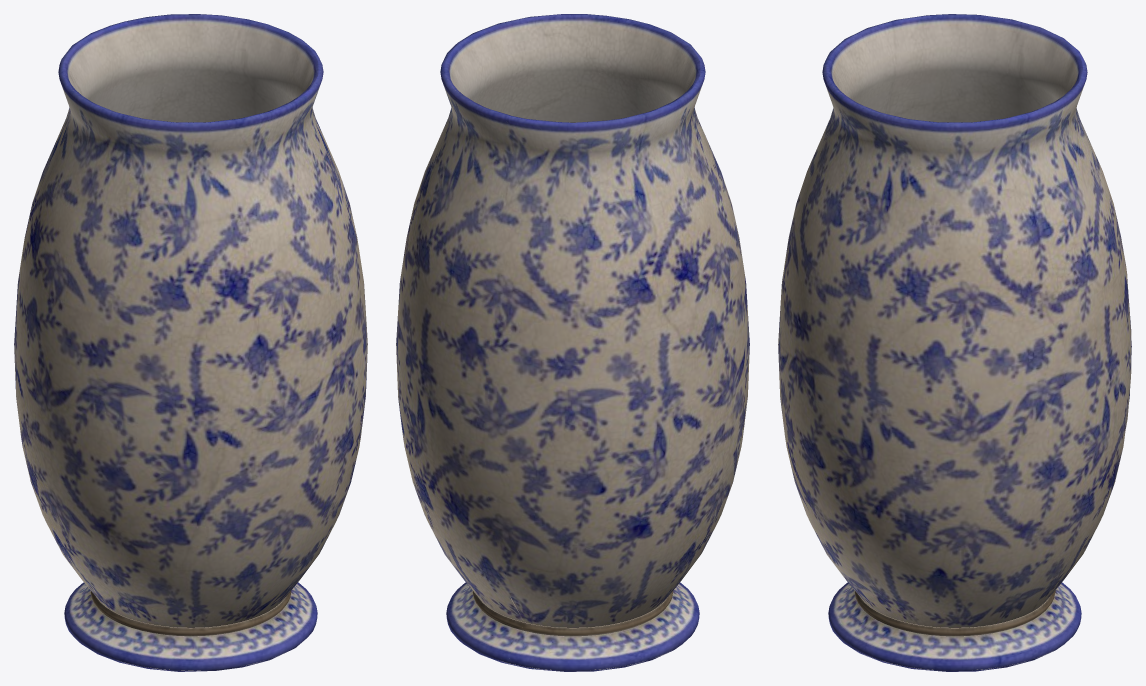
The model's file is antique_ceramic_vase_01.glb.
3 renders of one model, left to right at view 1: azimuth 30°, elevation 25°; view 2: azimuth 150°, elevation 25°; view 3: azimuth 270°, elevation 25°, orthographic.
Visible parts, largest first — view 1: antique_ceramic_vase_01; view 2: antique_ceramic_vase_01; view 3: antique_ceramic_vase_01.
Boxes of the visible parts, x1,y1,x2,y2 form: antique_ceramic_vase_01: [14, 14, 367, 671]; antique_ceramic_vase_01: [396, 14, 749, 671]; antique_ceramic_vase_01: [778, 14, 1131, 671].
Size of the model in its own units: 0.2554 by 0.4397 by 0.2554.
Materials: 1 (1 with a texture image).
